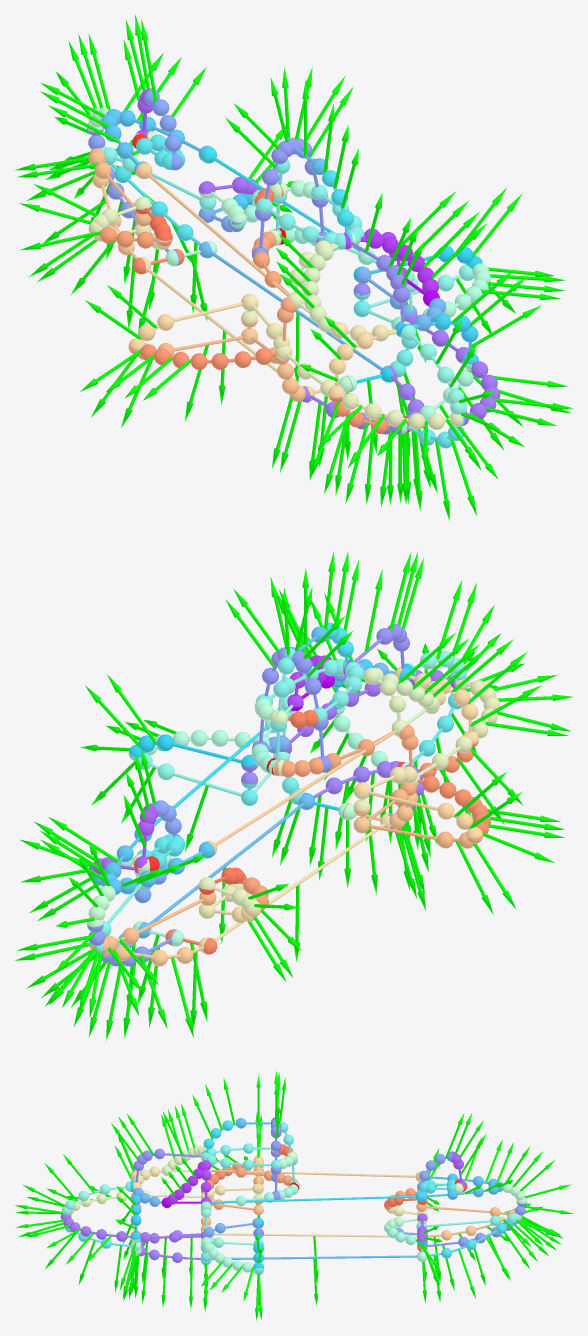
The model's file is scaffolds3d_submarine.gltf.
3 views of the same model, one above another, from view 1: azimuth 30°, elevation 25°; view 2: azimuth 150°, elevation 25°; view 3: azimuth 270°, elevation 25° (orthographic). The views are drawn at different scales.
Bounding box in the file's own units: 0.6429 × 0.4546 × 1.05.
